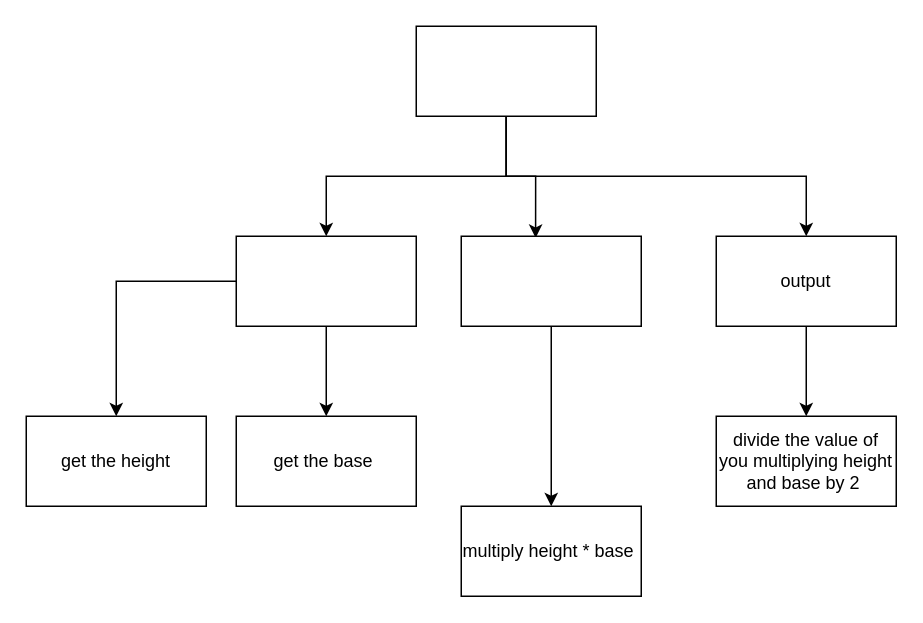
Image size: 923x623. Some labels were removed from this diagram. The shapes that lost their labels are listed below. From the top down, each one's centre as x and y in pixels, then its label:
point 505,70: area of triangle
point 325,280: input
point 550,280: process
